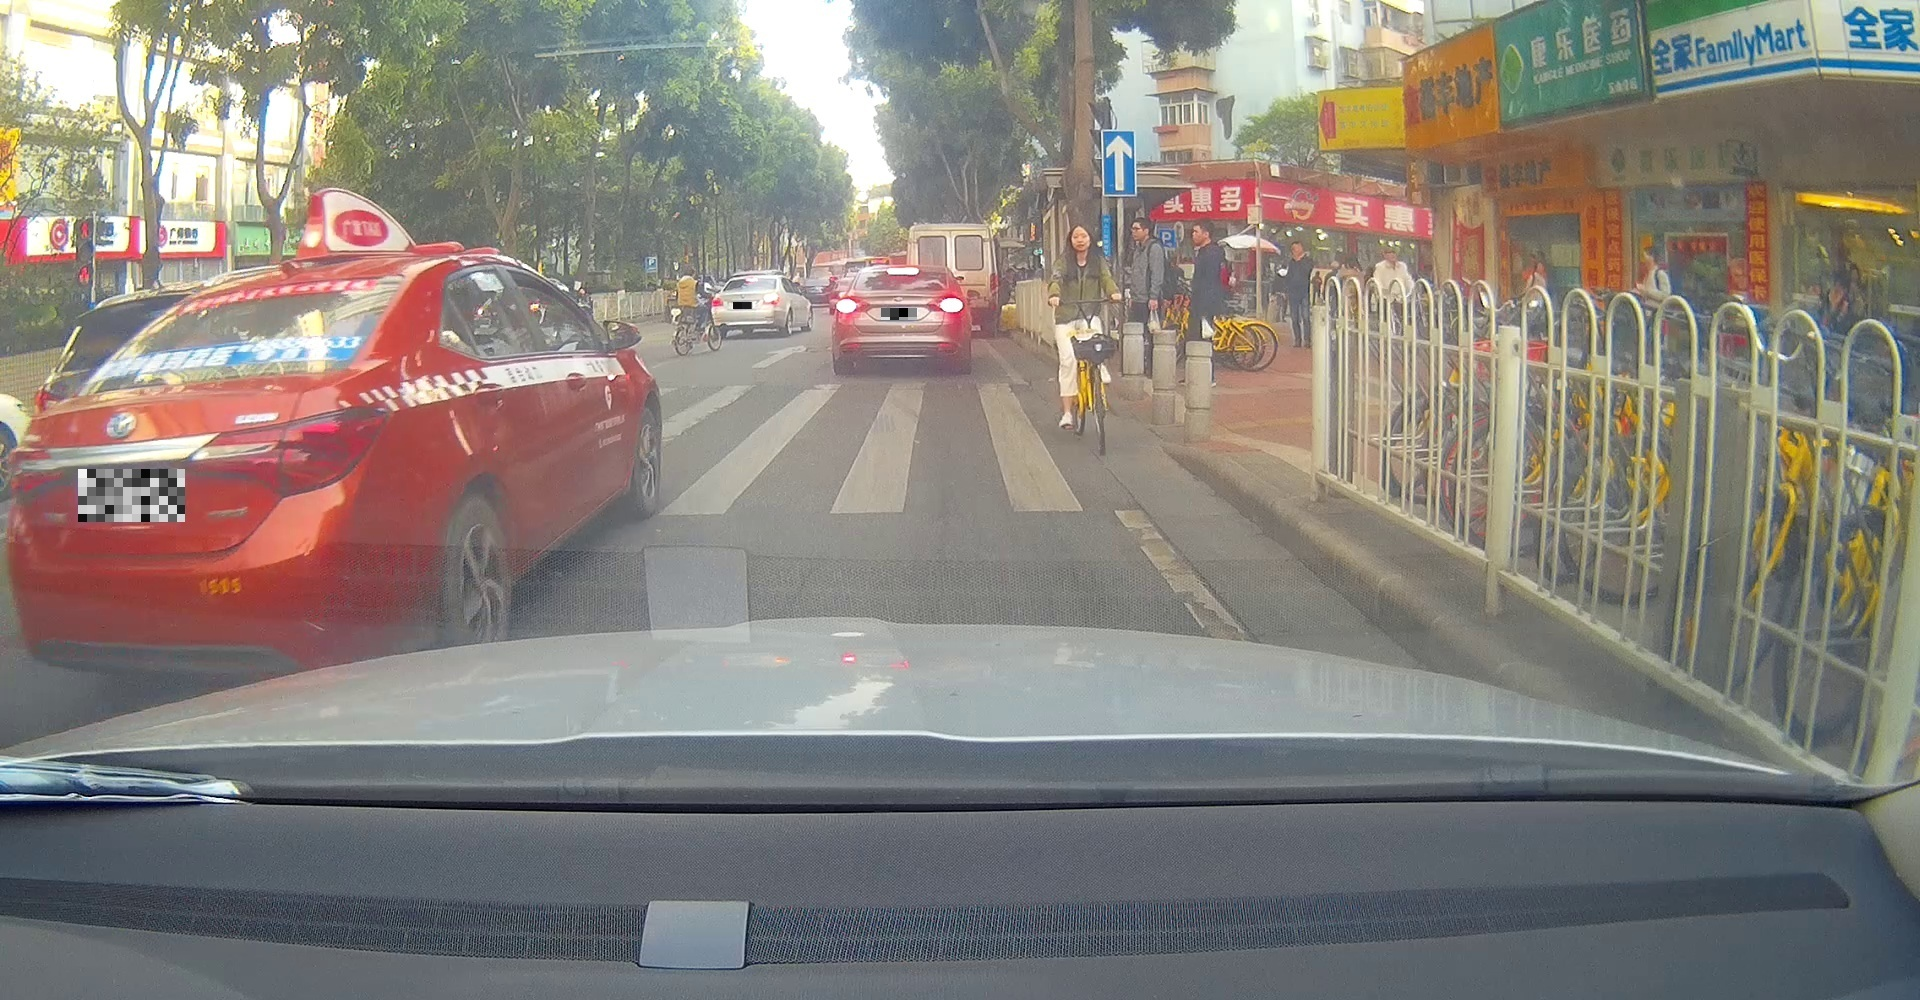L_light: (185, 405, 390, 497), (8, 445, 69, 506), (836, 297, 870, 313), (711, 297, 723, 307)
R_light: (927, 294, 965, 313), (763, 294, 778, 305)
T_light: (234, 286, 305, 298), (886, 266, 919, 275), (745, 278, 758, 283)
day-brake: (830, 265, 969, 376), (711, 275, 782, 338)
day-no: (8, 255, 443, 679)
plate_1: (77, 470, 185, 522)
plate_2: (733, 302, 752, 308)
plate_3: (881, 308, 917, 320)
